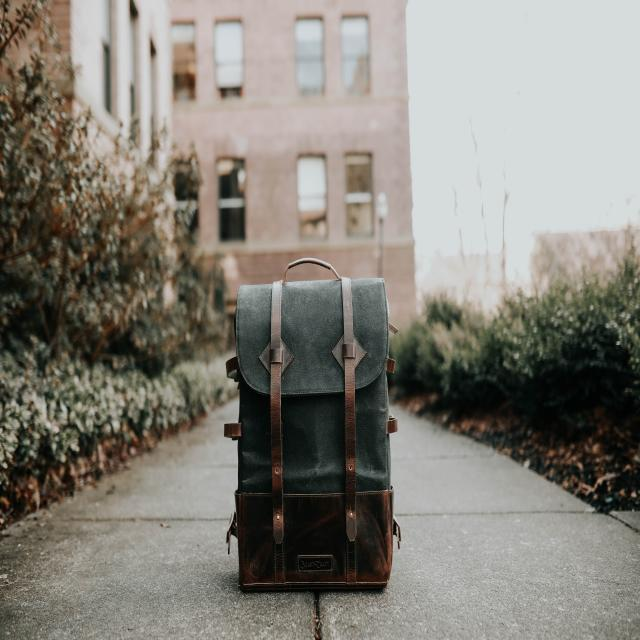backpack: (226, 252, 401, 593)
